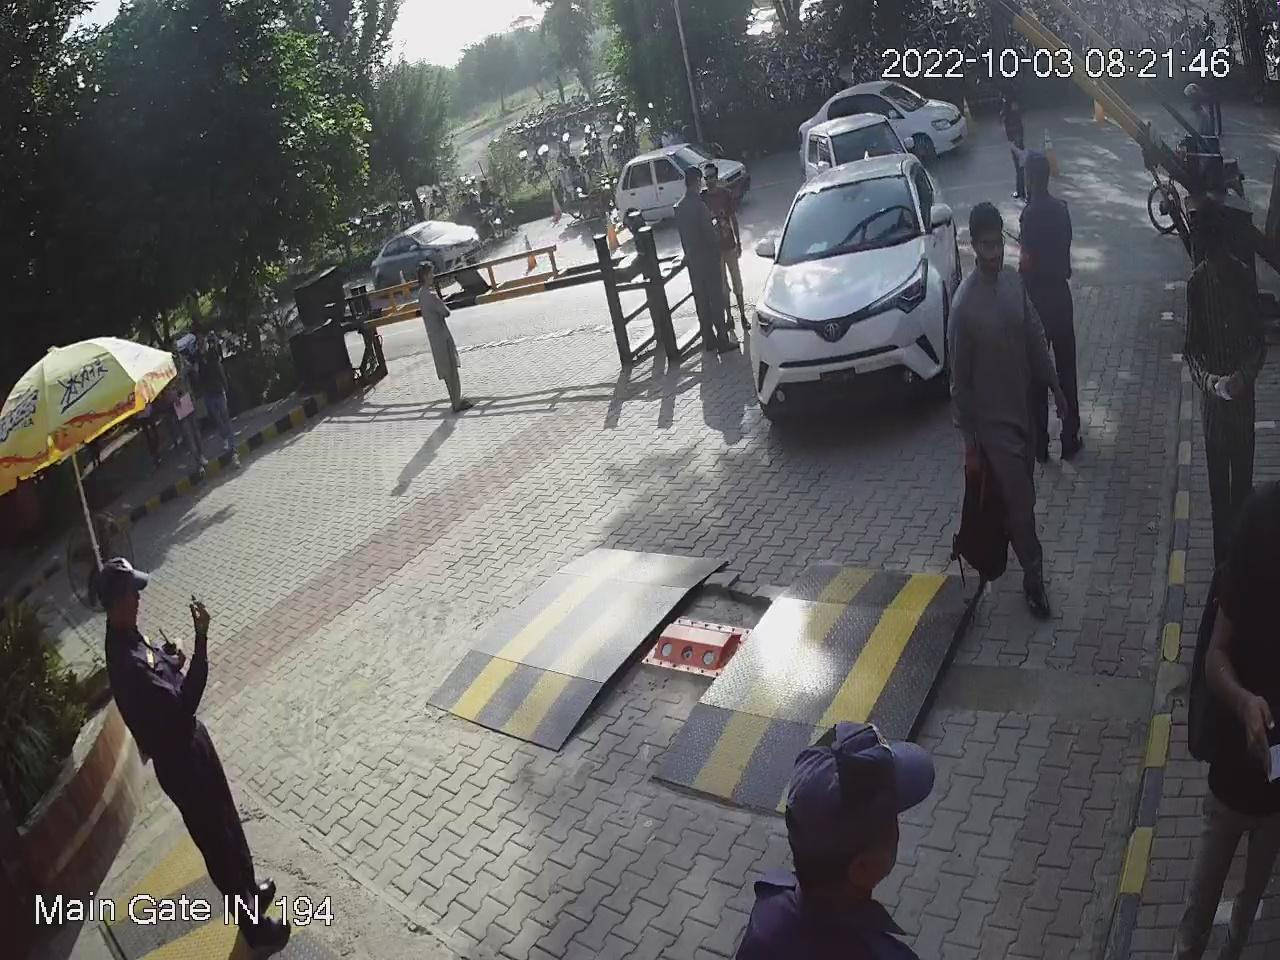windshield: (773, 157, 925, 267)
